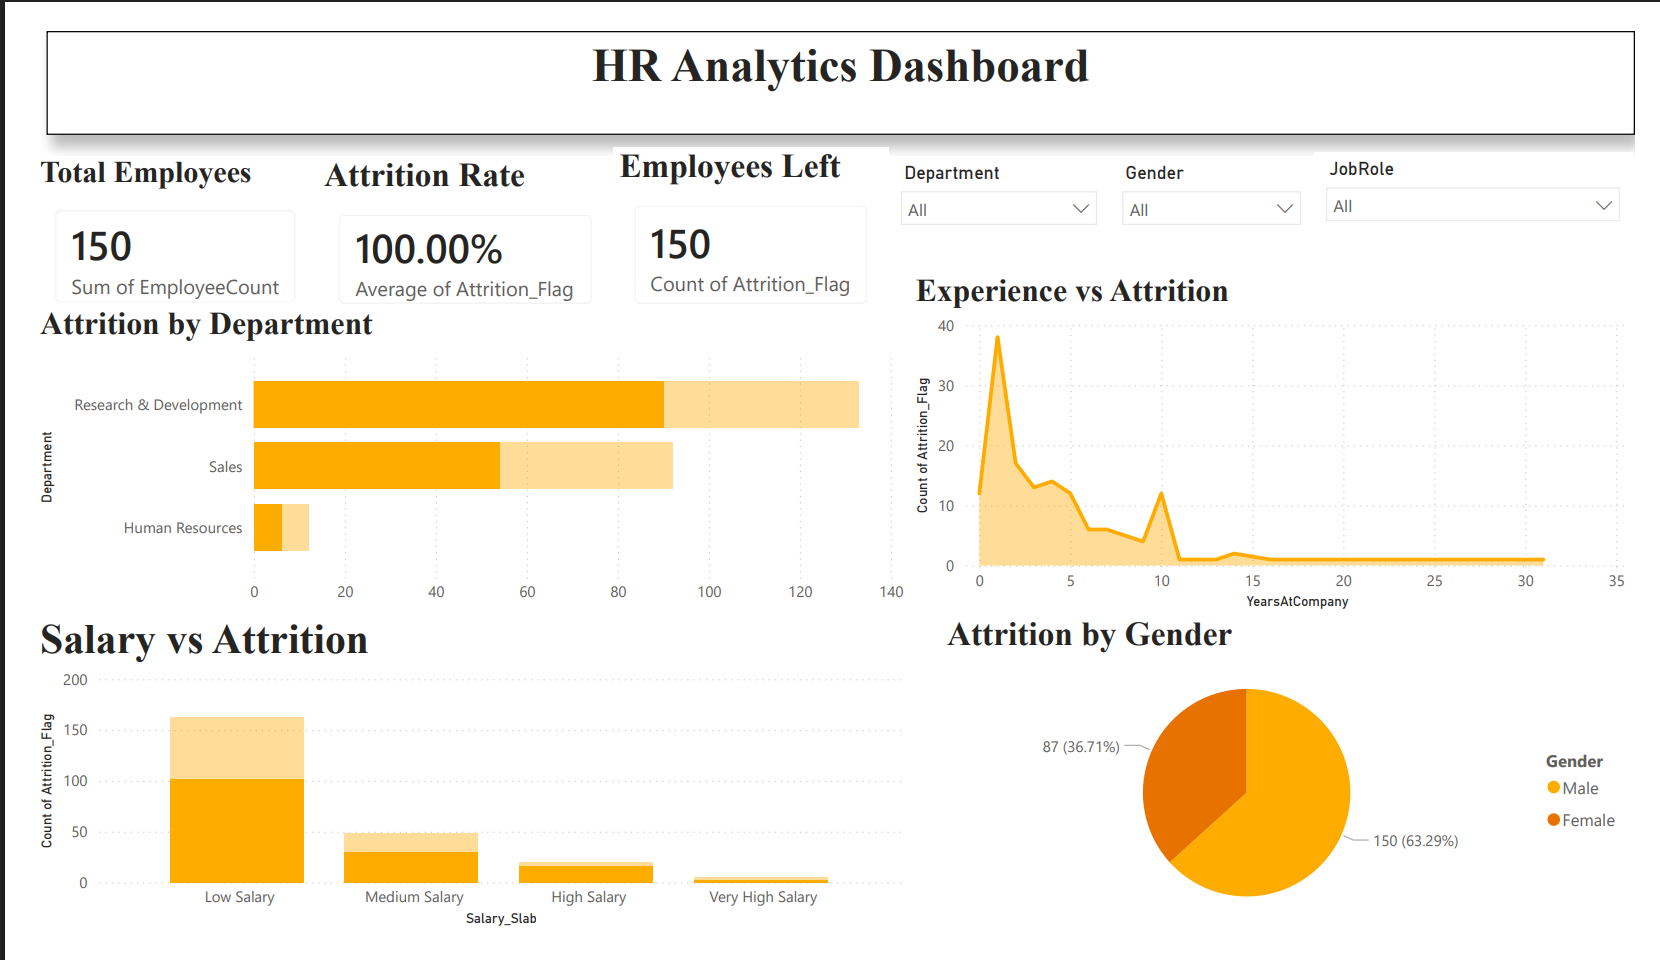

This screenshot's page, from the dashboard's own definition file:
{"tool":"powerbi","page":{"name":"HR Analytics Dashboard","canvas":[1280,720],"ordinal":0},"visuals":[{"type":"textbox","box":[10,0,1270,83],"z":0},{"type":"cardVisual","title":"Total Employees","fields":{"Data":["Sum(Sheet1.EmployeeCount)","select","select1"]},"box":[0,100,226.7,135],"z":1000},{"type":"cardVisual","title":"Attrition Rate","fields":{"Data":["Avg(Sheet1.Attrition_Flag)"]},"box":[226.7,100,236.7,135],"z":2000},{"type":"clusteredBarChart","title":"Attrition by Department","fields":{"Category":["Sheet1.Department"],"Y":["CountNonNull(Sheet1.Attrition_Flag)"]},"box":[0,219,700,247],"z":3000},{"type":"pieChart","title":"Attrition by Gender","fields":{"Category":["Sheet1.Gender"],"Y":["CountNonNull(Sheet1.Attrition_Flag)"]},"box":[725,466.7,555,253.3],"z":4000},{"type":"cardVisual","title":"Employees Left","fields":{"Data":["CountNonNull(Sheet1.Attrition_Flag)"]},"box":[463.3,93.3,220,141.7],"z":5000},{"type":"clusteredColumnChart","title":"Salary vs Attrition","fields":{"Category":["Sheet1.Salary_Slab"],"Y":["CountNonNull(Sheet1.Attrition_Flag)"]},"box":[0,466.7,700,253.3],"z":6000},{"type":"areaChart","title":"Experience vs Attrition","fields":{"Category":["Sheet1.YearsAtCompany"],"Y":["CountNonNull(Sheet1.Attrition_Flag)"]},"box":[700,193.3,580,273.3],"z":7000},{"type":"slicer","fields":{"Values":["Sheet1.Department"]},"box":[683.3,100,176.7,60],"z":8000},{"type":"slicer","fields":{"Values":["Sheet1.Gender"]},"box":[860,100,163.3,71.7],"z":9000},{"type":"slicer","fields":{"Values":["Sheet1.JobRole"]},"box":[1023.3,96.7,255,66.7],"z":10000}]}

Visuals, with their boxes in screenshot pixels (x1, y1, x2, y2), scaled from the page's 1280x720 canvas onto the 1660x960 screenshot:
textbox: BBox(13, 0, 1659, 111)
"Total Employees" cardVisual: BBox(0, 133, 294, 313)
"Attrition Rate" cardVisual: BBox(294, 133, 601, 313)
"Attrition by Department" clusteredBarChart: BBox(0, 292, 908, 621)
"Attrition by Gender" pieChart: BBox(940, 622, 1659, 959)
"Employees Left" cardVisual: BBox(601, 124, 886, 313)
"Salary vs Attrition" clusteredColumnChart: BBox(0, 622, 908, 959)
"Experience vs Attrition" areaChart: BBox(908, 258, 1659, 622)
slicer - Sheet1.Department: BBox(886, 133, 1115, 213)
slicer - Sheet1.Gender: BBox(1115, 133, 1327, 229)
slicer - Sheet1.JobRole: BBox(1327, 129, 1658, 218)
